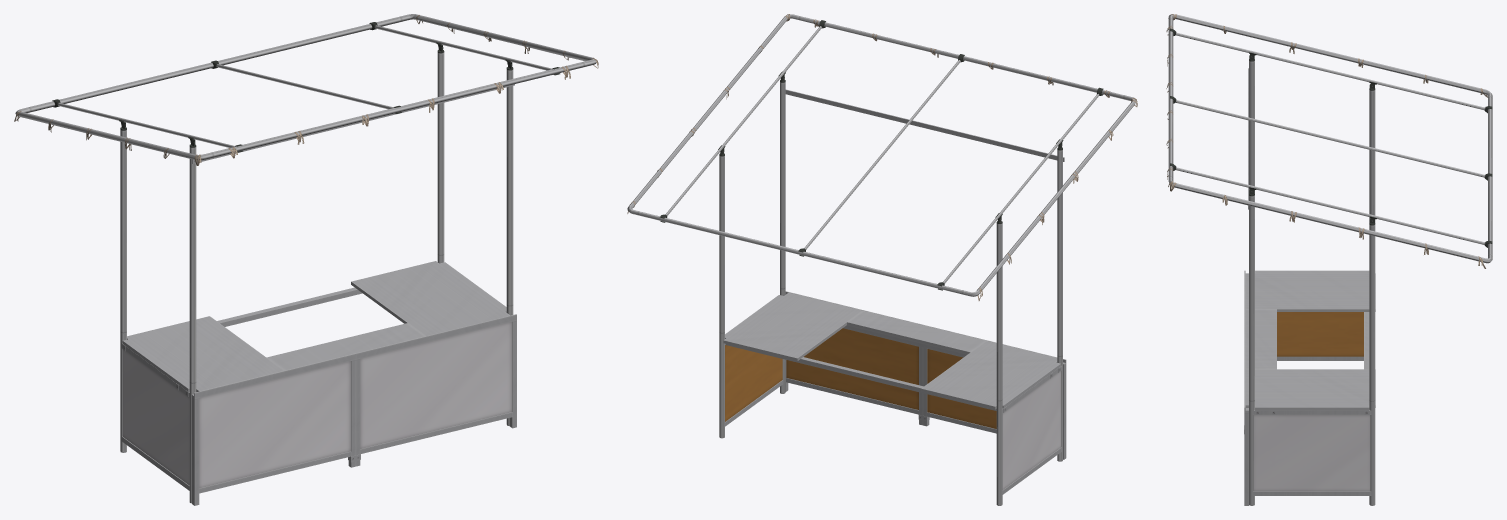
File: jsf_4P_s02_c04_t02.fbx
3 renders of one model, left to right at view 1: azimuth 30°, elevation 25°; view 2: azimuth 150°, elevation 25°; view 3: azimuth 270°, elevation 25°, orthographic. The views are drawn at different scales.
Visible parts, largest first — view 1: Base_s02_c04, Pillar4_s02, Table_4P_s02_t02, Rope_4P_s02; view 2: Base_s02_c04, Pillar4_s02, Table_4P_s02_t02, Rope_4P_s02; view 3: Base_s02_c04, Pillar4_s02, Table_4P_s02_t02, Rope_4P_s02.
Part boxes in pixels (left/top/right/bottom): Base_s02_c04: left=121, top=314, right=516, bottom=505; Pillar4_s02: left=15, top=14, right=596, bottom=503; Table_4P_s02_t02: left=122, top=261, right=509, bottom=396; Rope_4P_s02: left=14, top=15, right=598, bottom=165; Base_s02_c04: left=725, top=291, right=1066, bottom=494; Pillar4_s02: left=627, top=14, right=1136, bottom=505; Table_4P_s02_t02: left=723, top=292, right=1061, bottom=412; Rope_4P_s02: left=627, top=14, right=1137, bottom=300; Base_s02_c04: left=1244, top=270, right=1371, bottom=505; Pillar4_s02: left=1168, top=14, right=1492, bottom=505; Table_4P_s02_t02: left=1245, top=270, right=1375, bottom=414; Rope_4P_s02: left=1166, top=14, right=1487, bottom=268.
Size of the model in its own units: 264 by 243 by 211.
